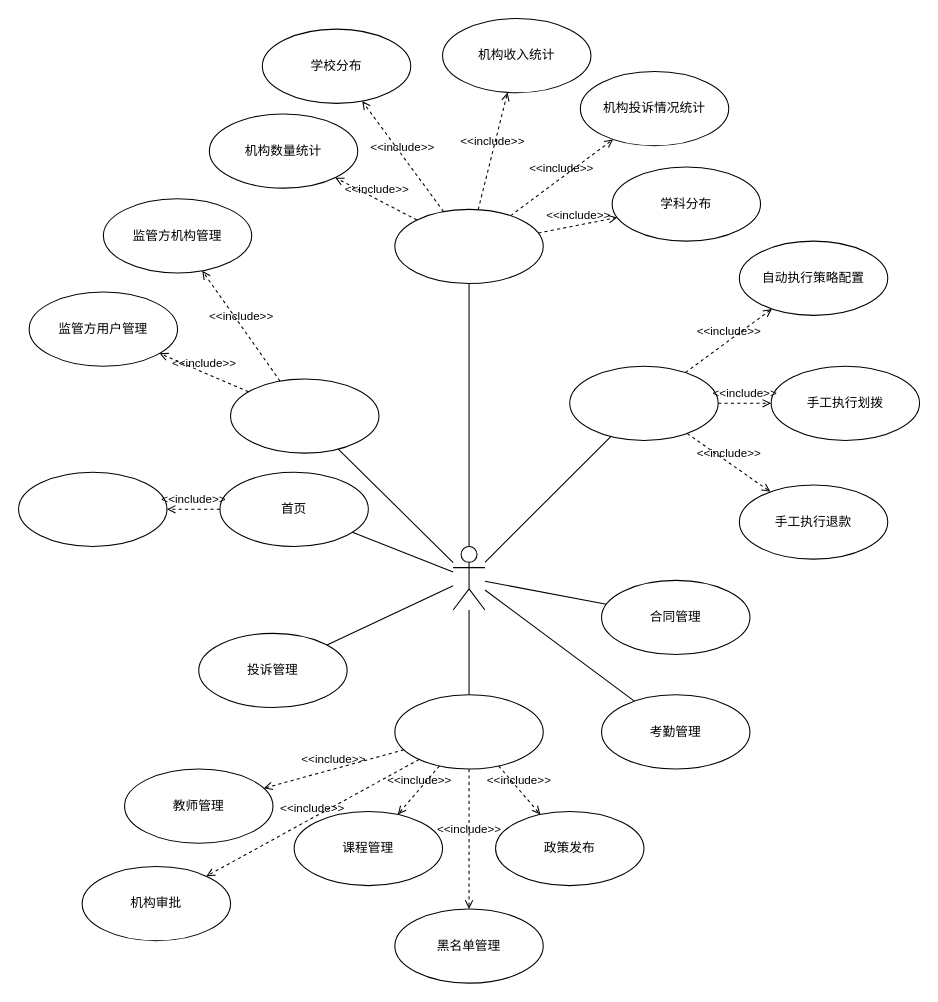
Image size: 938x1002. Some labels were removed from this diagram. The centre of each missing label's shape, as x and y in pixels:
"教育机构管理" goes at (468,731).
"登陆" goes at (92,508).
"监管方" goes at (468,577).
"监管方基础信息维护" goes at (304,415).
"统计分析" goes at (468,246).
"资金管理" goes at (643,402).
